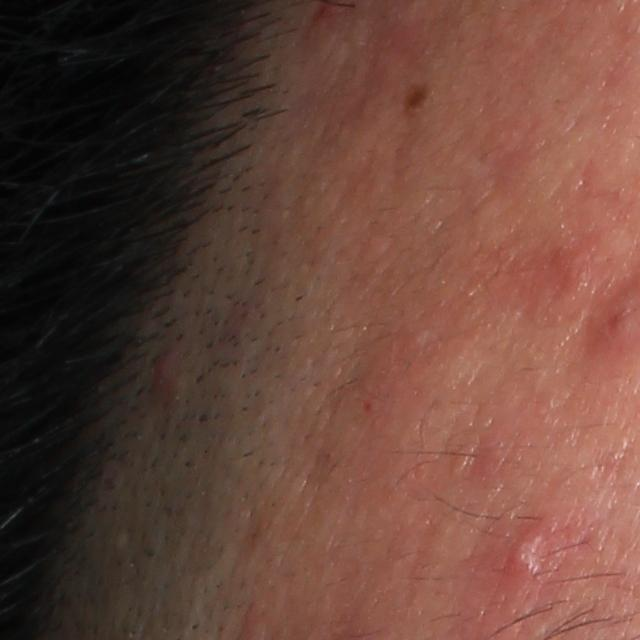nevus: (401, 81, 437, 119)
papule: (502, 516, 547, 581), (151, 350, 176, 391)
